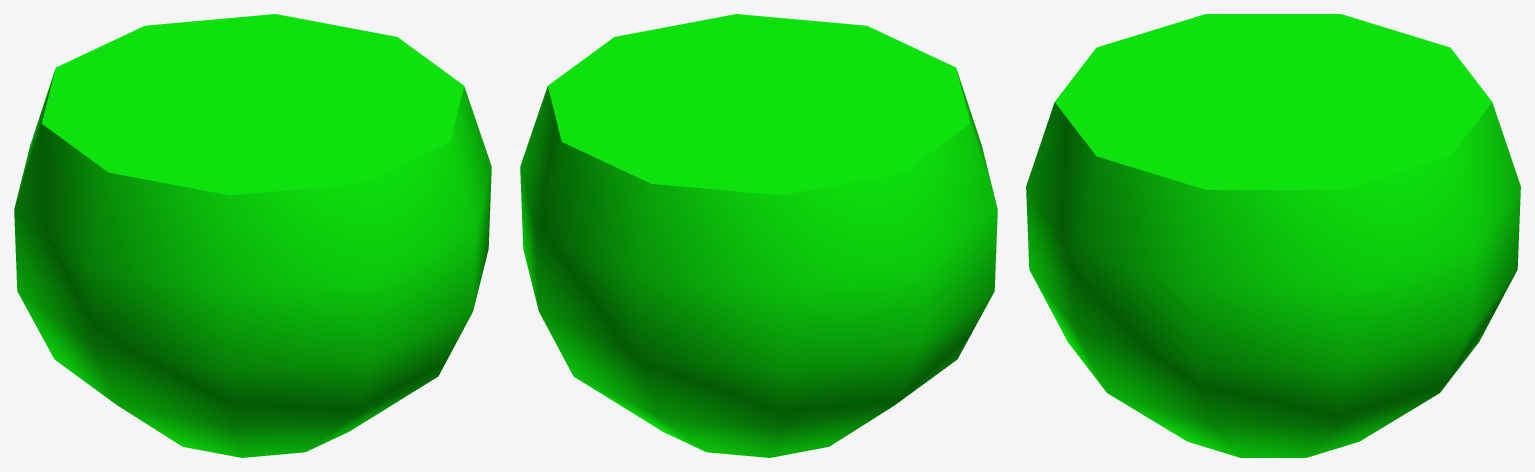
Rendered from Set_08_Bottle_02_Liquid.fbx.
The picture shows the model from 3 angles, left to right: view 1: azimuth 30°, elevation 25°; view 2: azimuth 150°, elevation 25°; view 3: azimuth 270°, elevation 25°; orthographic projection.
Visible parts, largest first — view 1: Set_08_Bottle_02_Liquid; view 2: Set_08_Bottle_02_Liquid; view 3: Set_08_Bottle_02_Liquid.
Part boxes in pixels (<box>): Set_08_Bottle_02_Liquid: <box>14,14,491,457</box>; Set_08_Bottle_02_Liquid: <box>520,14,997,457</box>; Set_08_Bottle_02_Liquid: <box>1026,14,1520,457</box>.
Size of the model in its own units: 10.89 by 8.39 by 11.45.
